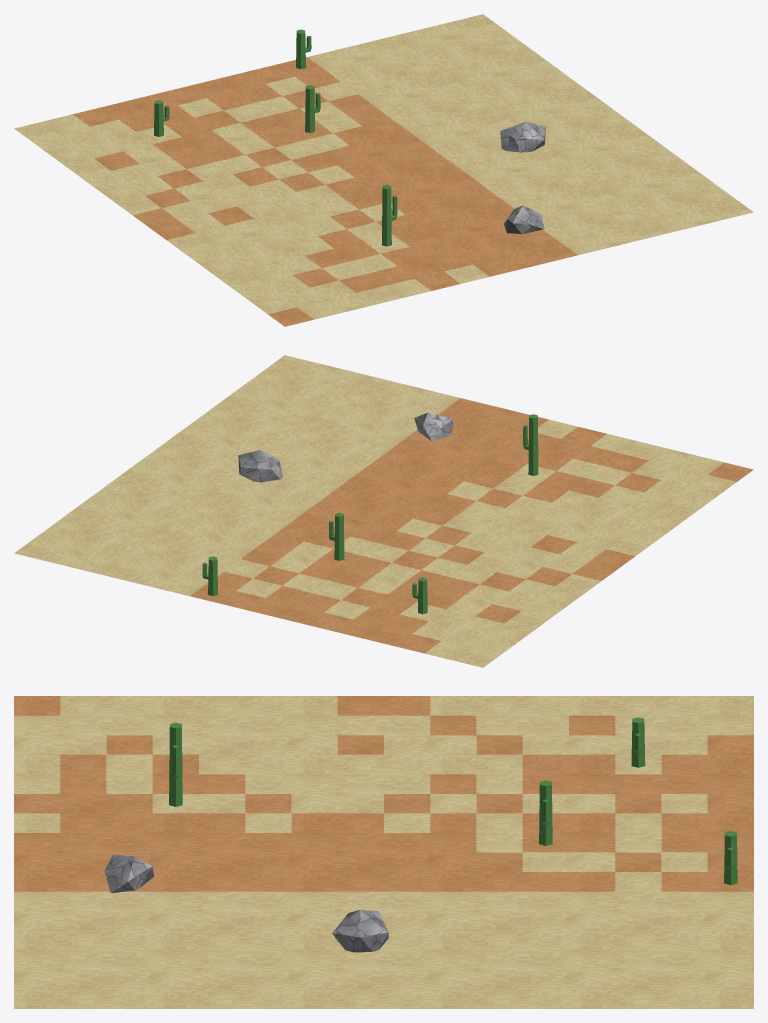
File: chunk_11_22.glb
The picture shows the model from 3 angles, top to bottom: view 1: azimuth 30°, elevation 25°; view 2: azimuth 150°, elevation 25°; view 3: azimuth 270°, elevation 25°; orthographic projection. The views are drawn at different scales.
Parts seen in each view (by area): view 1: chunk_11_22; view 2: chunk_11_22; view 3: chunk_11_22.
Part boxes in pixels (left/top/right/bottom): chunk_11_22: left=14, top=14, right=753, bottom=326; chunk_11_22: left=14, top=355, right=753, bottom=667; chunk_11_22: left=14, top=696, right=753, bottom=1008.
Size of the model in its own units: 16 by 2.33 by 16.
Materials: 4 (3 with a texture image).
